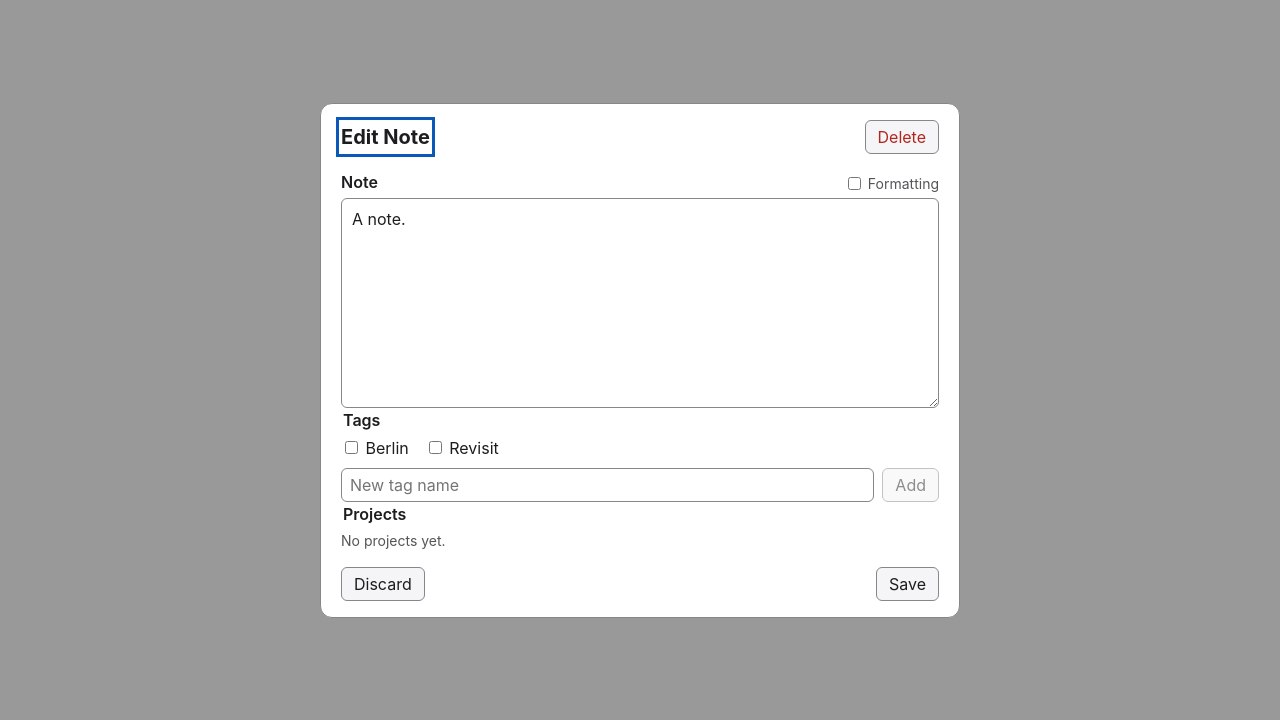
the note editor › says why a save was refused, and reads the tags and the note again when a tag has gone
Click the checkbox labelled "Berlin".
click(352, 447)  # box top-left (345, 440), bottom-right (358, 454)
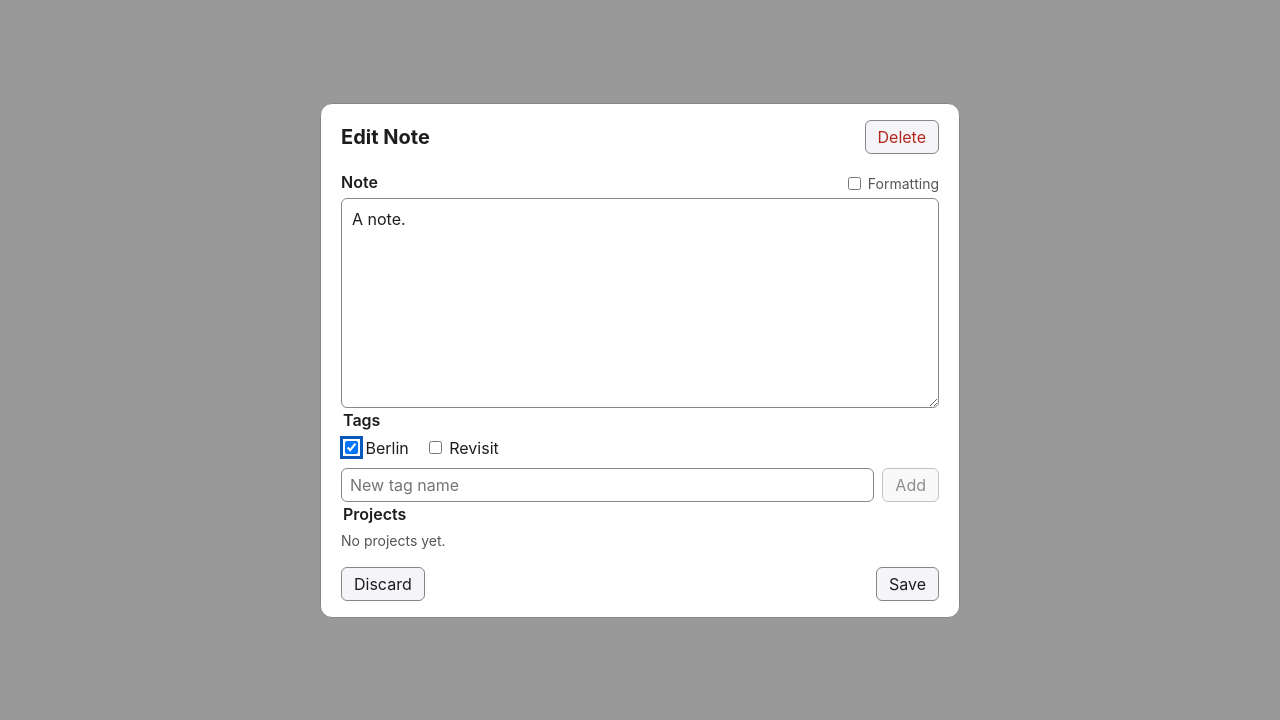
Click the button "Save".
click(908, 584)  # box top-left (876, 566), bottom-right (939, 600)
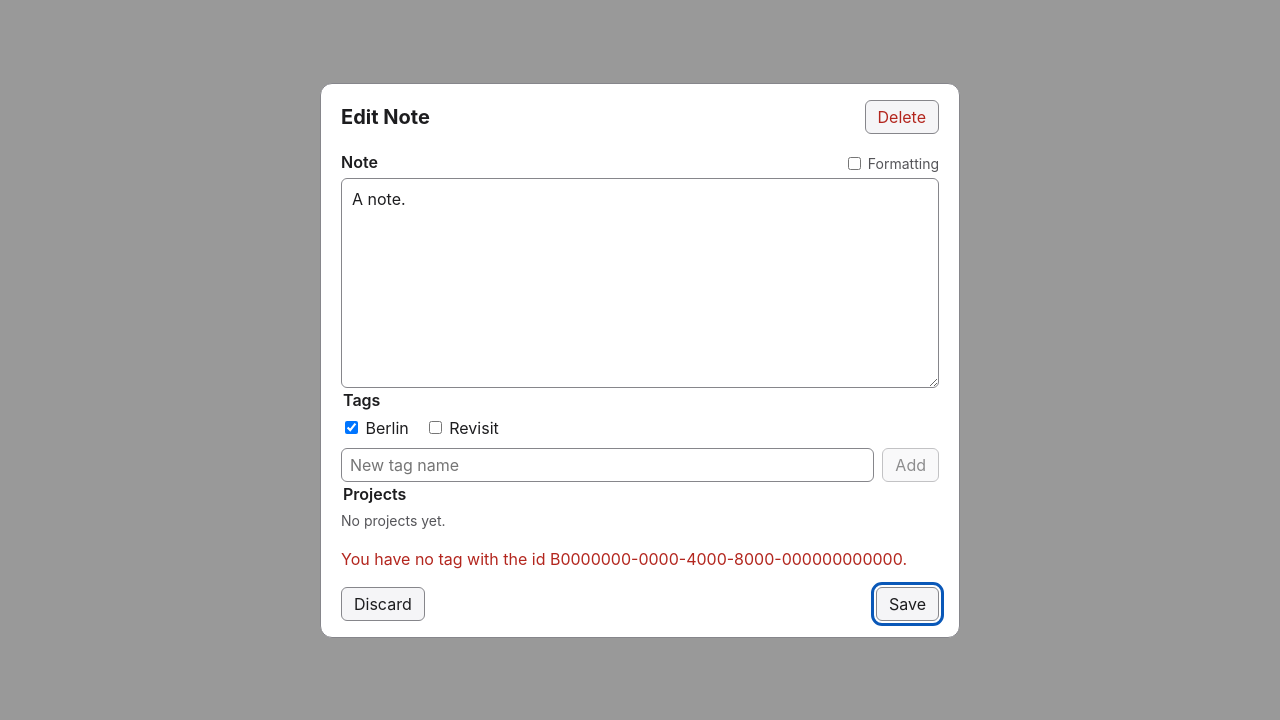
Expected: the message reads "You have no tag with the id B0000000-0000-4000-8000-000000000000.", top-left (341, 548), bottom-right (907, 568)
